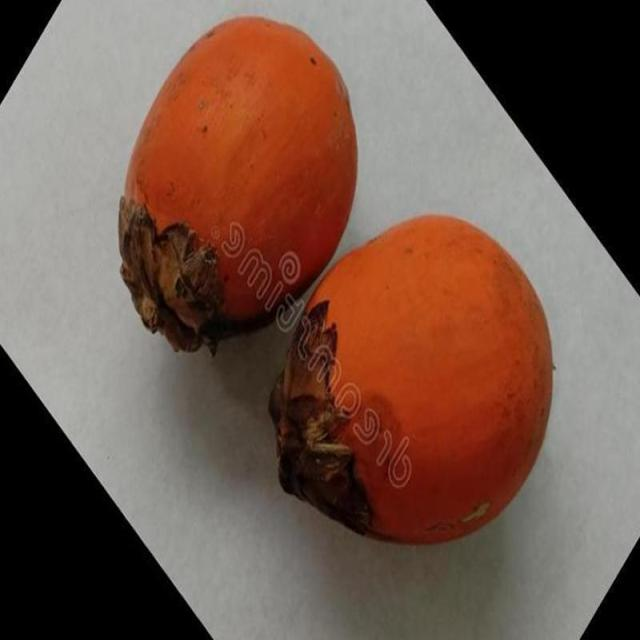good: (269, 214, 555, 548), (117, 14, 361, 353)
